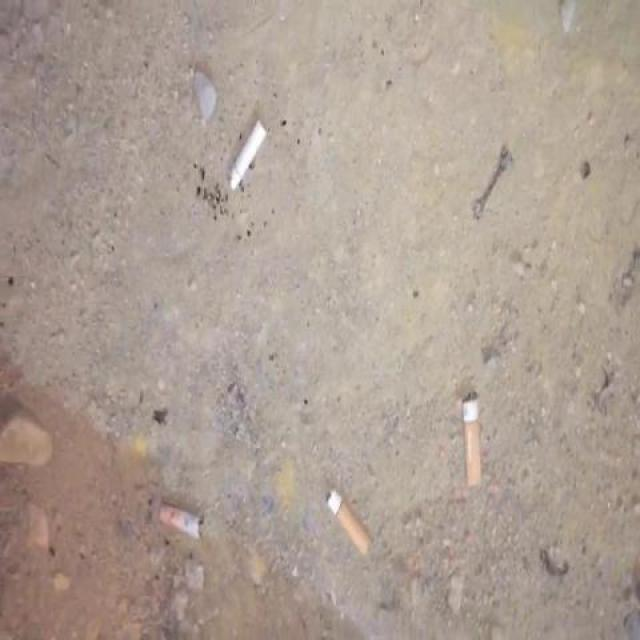non-organic waste: (322, 486, 379, 566), (224, 117, 269, 196), (460, 389, 488, 494), (157, 499, 207, 544)
